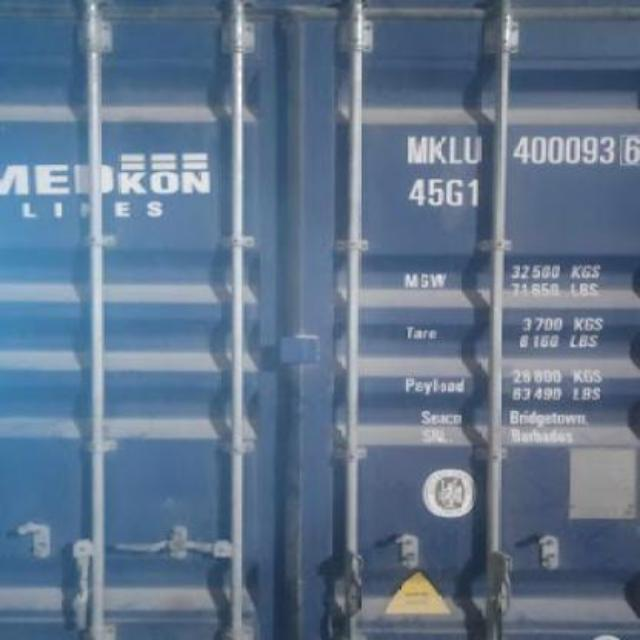0: (530, 132, 548, 166), (564, 133, 580, 171), (548, 132, 564, 168)
3: (598, 134, 614, 170)
4: (510, 130, 528, 166)
6: (622, 134, 638, 166)
9: (582, 133, 598, 169)
K: (428, 128, 446, 168)
L: (446, 125, 464, 168)
M: (404, 130, 428, 168)
U: (464, 131, 482, 171)
